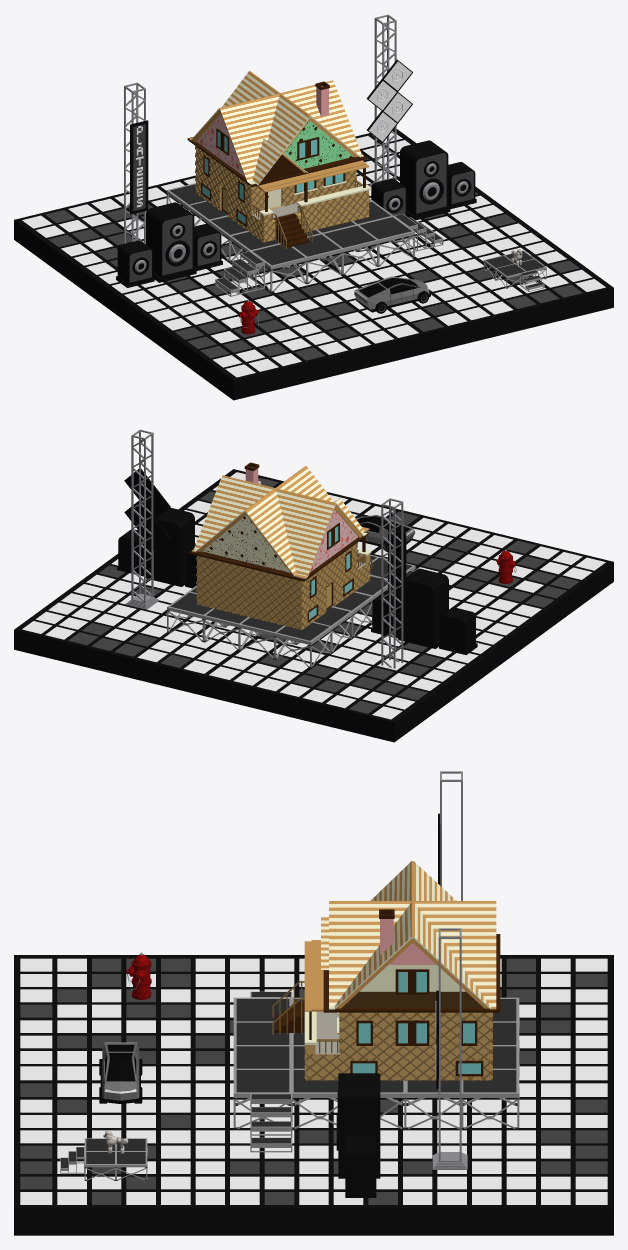
The picture shows the model from 3 angles, top to bottom: view 1: azimuth 30°, elevation 25°; view 2: azimuth 150°, elevation 25°; view 3: azimuth 270°, elevation 25°; orthographic projection. The views are drawn at different scales.
Parts seen in each view (by area): view 1: Cube.008, Cube.1102, VEHICLES_CYBERTRUCK; view 2: Cube.008, Cube.1102, VEHICLES_CYBERTRUCK, OBJRANDOM_FIRE_HYDRANT; view 3: Cube.008, Cube.1102, VEHICLES_CYBERTRUCK, OBJRANDOM_FIRE_HYDRANT.
Boxes of the visible parts, box(x1,y1,x2,y2) form: Cube.008: box(14, 14, 613, 400); Cube.1102: box(187, 71, 371, 248); VEHICLES_CYBERTRUCK: box(354, 276, 430, 313); Cube.008: box(14, 429, 613, 742); Cube.1102: box(189, 462, 372, 629); VEHICLES_CYBERTRUCK: box(355, 515, 415, 552); OBJRANDOM_FIRE_HYDRANT: box(496, 549, 516, 583); Cube.008: box(14, 771, 613, 1235); Cube.1102: box(272, 861, 500, 1080); VEHICLES_CYBERTRUCK: box(99, 1042, 142, 1103); OBJRANDOM_FIRE_HYDRANT: box(126, 952, 151, 999).
Size of the model in its own units: 4000 by 2073 by 4000.
Materials: 31 (2 with a texture image).
